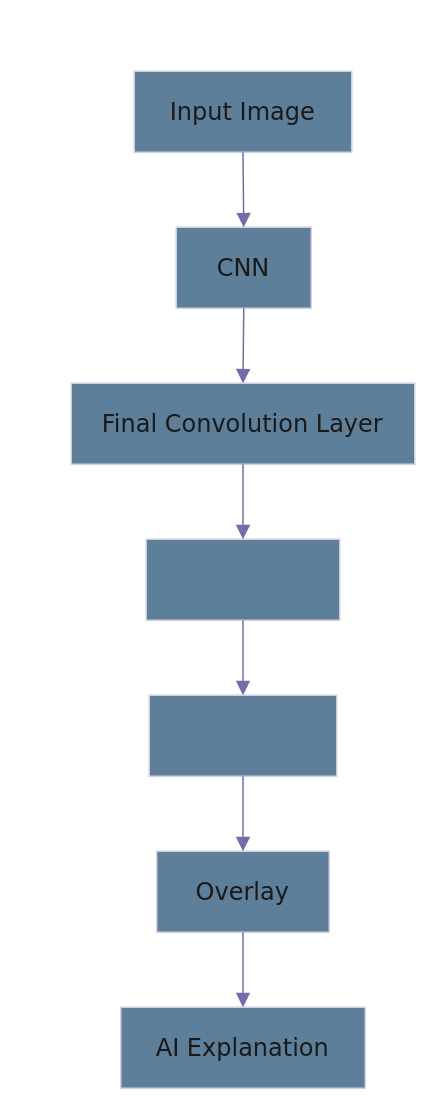
Image size: 441x1115. Some labels were removed from this diagram. Here are the shapes that lost their labels. From the top down, the centre of each, then its label:
At [242,579]: "Gradients".
At [242,735]: "Heatmap".
